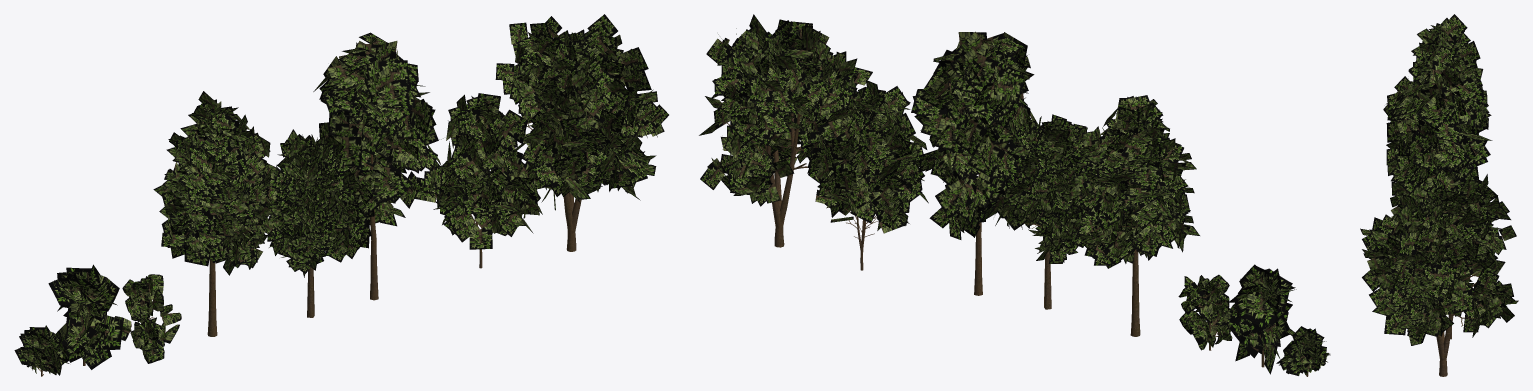
The model's file is tree.glb.
3 views of the same model, side by side, from view 1: azimuth 30°, elevation 25°; view 2: azimuth 150°, elevation 25°; view 3: azimuth 270°, elevation 25° (orthographic). The views are drawn at different scales.
Parts seen in each view (by area): view 1: tree_2, tree_0, tree_4, tree_1, tree_3, tree_5, tree_6; view 2: tree_2, tree_0, tree_4, tree_1, tree_3, tree_5, tree_6; view 3: tree_2, tree_4, tree_0, tree_3, tree_1.
Part boxes in pixels (x1=…): tree_2: x1=502, y1=14, x2=668, y2=251; tree_0: x1=145, y1=91, x2=273, y2=346; tree_4: x1=319, y1=32, x2=438, y2=300; tree_1: x1=414, y1=63, x2=550, y2=268; tree_3: x1=265, y1=74, x2=366, y2=317; tree_5: x1=54, y1=264, x2=164, y2=369; tree_6: x1=14, y1=280, x2=69, y2=376; tree_2: x1=699, y1=14, x2=872, y2=247; tree_0: x1=1073, y1=95, x2=1209, y2=339; tree_4: x1=911, y1=31, x2=1034, y2=295; tree_1: x1=808, y1=80, x2=928, y2=270; tree_3: x1=990, y1=70, x2=1089, y2=309; tree_5: x1=1186, y1=264, x2=1294, y2=374; tree_6: x1=1277, y1=287, x2=1330, y2=376; tree_2: x1=1360, y1=167, x2=1518, y2=376; tree_4: x1=1383, y1=60, x2=1497, y2=202; tree_0: x1=1394, y1=14, x2=1491, y2=134; tree_3: x1=1386, y1=141, x2=1408, y2=207; tree_1: x1=1408, y1=184, x2=1481, y2=339.
Bounding box in the file's own units: 46.19 × 18.73 × 11.92.
Materials: 2 (2 with a texture image).
